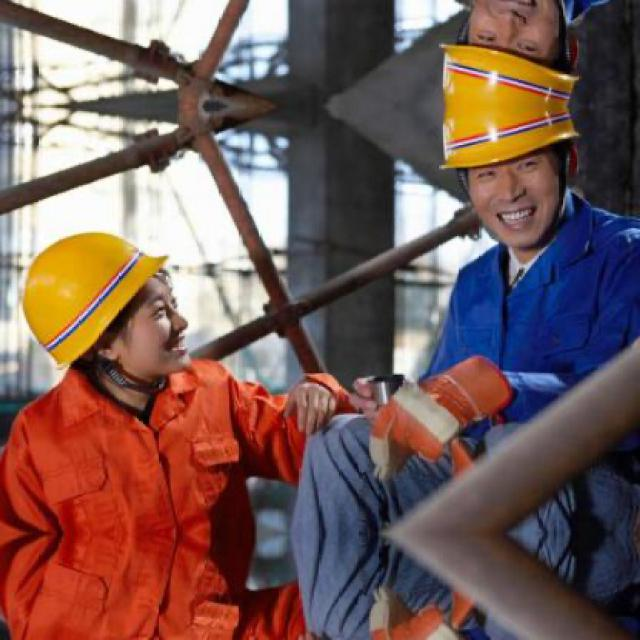helmet: (2, 208, 200, 412), (438, 106, 592, 255), (437, 0, 592, 108)
